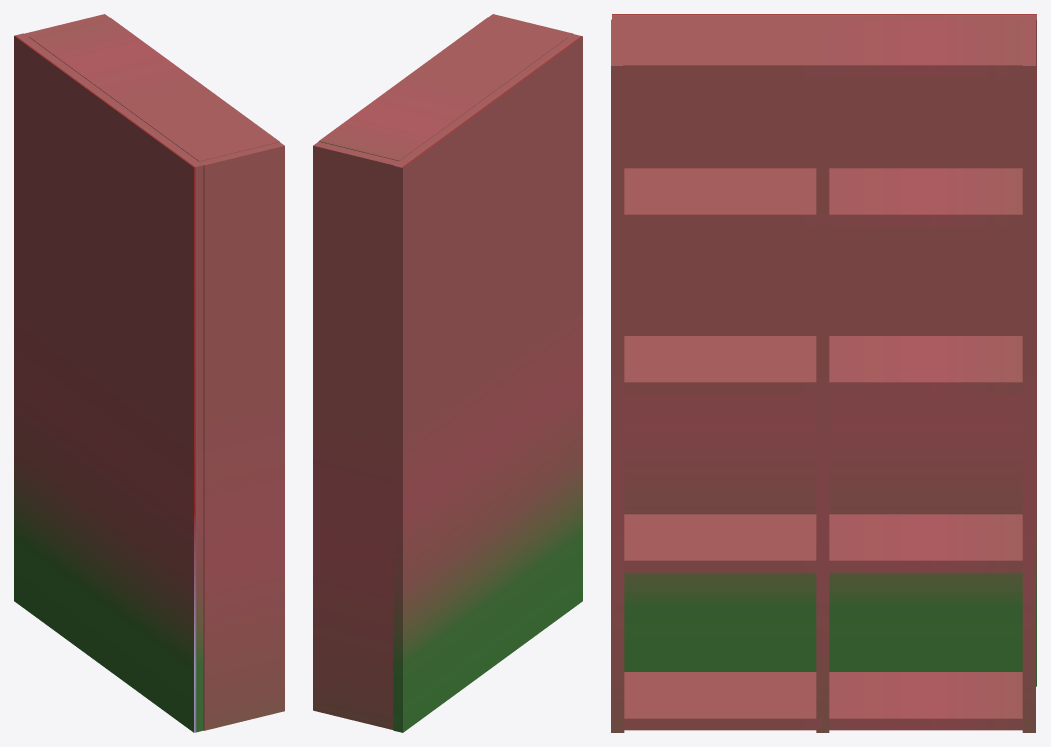
File: Office_Cupboard.fbx
3 views of the same model, side by side, from view 1: azimuth 30°, elevation 25°; view 2: azimuth 150°, elevation 25°; view 3: azimuth 270°, elevation 25° (orthographic). The views are drawn at different scales.
Parts seen in each view (by area): view 1: Office_Cupboard; view 2: Office_Cupboard; view 3: Office_Cupboard.
Part boxes in pixels (bbox=[...]): Office_Cupboard: bbox=[14, 14, 284, 732]; Office_Cupboard: bbox=[313, 14, 582, 732]; Office_Cupboard: bbox=[611, 14, 1036, 732].
Bounding box in the file's own units: 54.95 × 329 × 190.
